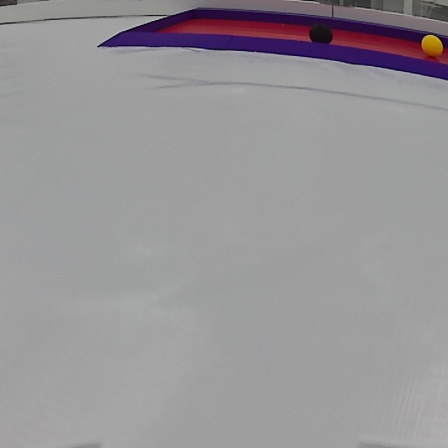black: (312, 24, 335, 44)
red_aim: (92, 8, 448, 78)
yellow: (420, 35, 448, 60)
